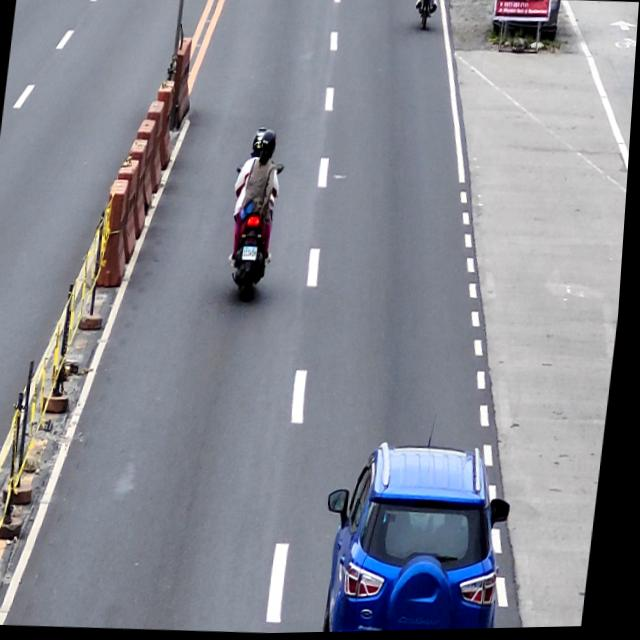Car: (322, 439, 525, 634)
License-Plate: (245, 247, 261, 260)
Motorcycle: (224, 161, 286, 305)
